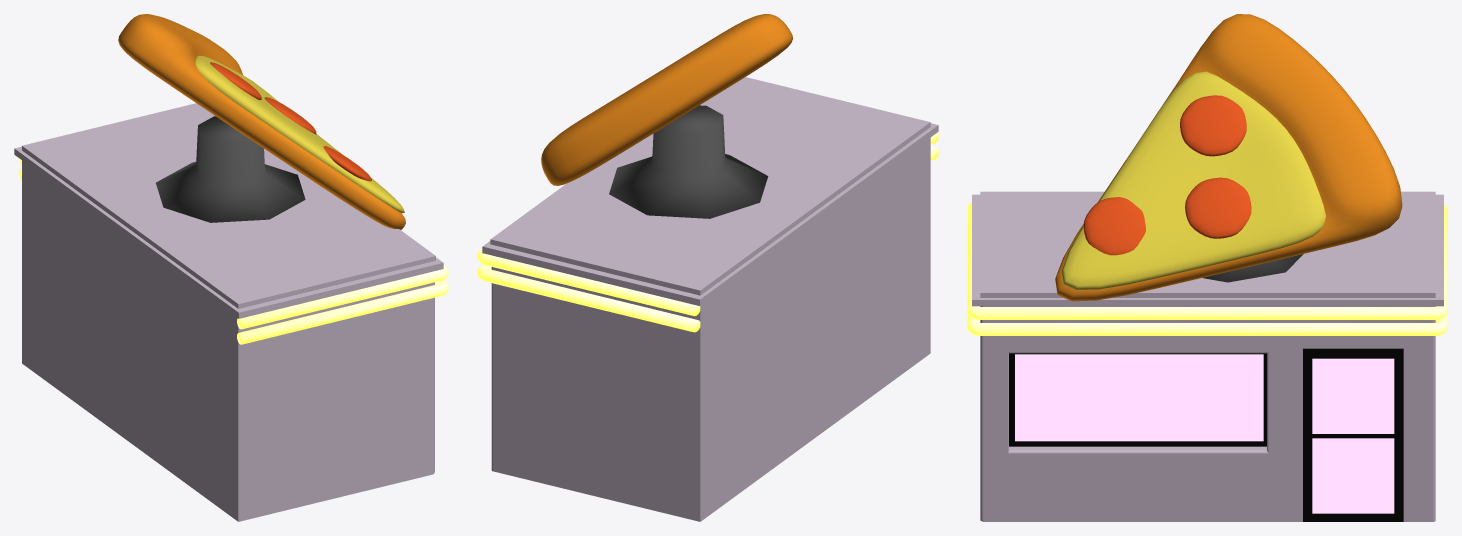
Rendered from Pizzeria.fbx.
3 renders of one model, left to right at view 1: azimuth 30°, elevation 25°; view 2: azimuth 150°, elevation 25°; view 3: azimuth 270°, elevation 25°, orthographic. The views are drawn at different scales.
Parts seen in each view (by area): view 1: Pizeria, Pizza, SupportPizza, fromage, NeonPizza.001, NeonPizza, Chorizo; view 2: Pizeria, Pizza, SupportPizza, NeonPizza.001, NeonPizza; view 3: Pizeria, fromage, Fenetre, Pizza, Porteïzzeria, NeonPizza, NeonPizza.001, Chorizo.002, Chorizo.001, Chorizo, SupportPizza.
Boxes of the visible parts, bbox=[...] form: Pizeria: bbox=[14, 103, 443, 521]; Pizza: bbox=[118, 14, 405, 229]; SupportPizza: bbox=[156, 116, 305, 222]; fromage: bbox=[195, 55, 404, 213]; NeonPizza.001: bbox=[18, 168, 448, 344]; NeonPizza: bbox=[18, 158, 448, 329]; Chorizo: bbox=[323, 146, 371, 181]; Pizeria: bbox=[482, 77, 938, 521]; Pizza: bbox=[541, 14, 792, 185]; SupportPizza: bbox=[609, 105, 768, 218]; NeonPizza.001: bbox=[477, 146, 938, 332]; NeonPizza: bbox=[477, 132, 938, 316]; Pizeria: bbox=[972, 191, 1443, 521]; fromage: bbox=[1061, 71, 1325, 290]; Fenetre: bbox=[1009, 353, 1266, 446]; Pizza: bbox=[1055, 14, 1402, 301]; Porteïzzeria: bbox=[1303, 348, 1403, 521]; NeonPizza: bbox=[967, 203, 1447, 319]; NeonPizza.001: bbox=[967, 312, 1447, 335]; Chorizo.002: bbox=[1180, 95, 1246, 156]; Chorizo.001: bbox=[1185, 177, 1251, 238]; Chorizo: bbox=[1083, 197, 1145, 255]; SupportPizza: bbox=[1203, 254, 1303, 282].
Size of the model in its own units: 1517 by 2710 by 2802.
